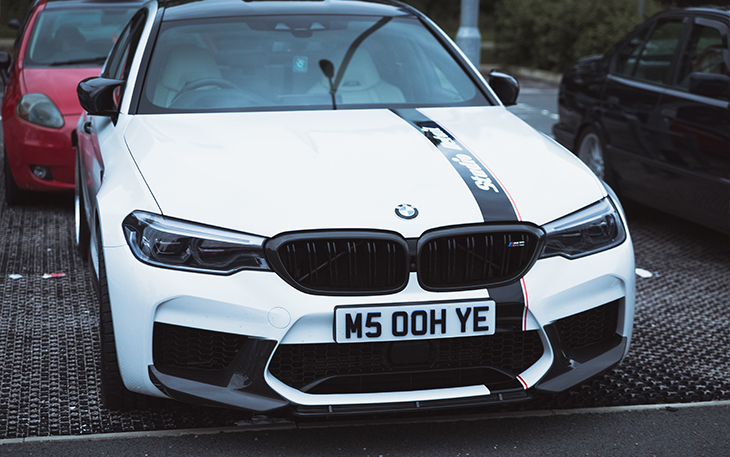plate: (326, 300, 501, 349)
